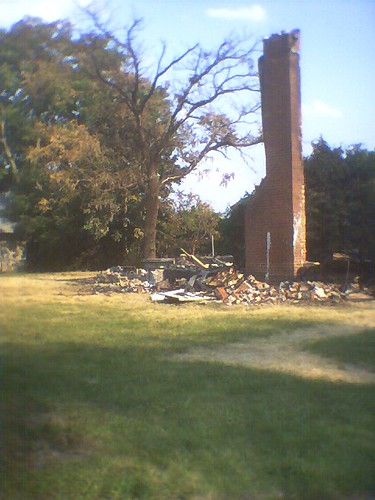grass: (20, 288, 364, 500)
sky: (163, 2, 375, 134)
trash: (104, 249, 318, 296)
tree: (1, 34, 149, 291), (111, 14, 250, 254), (304, 148, 374, 258)
